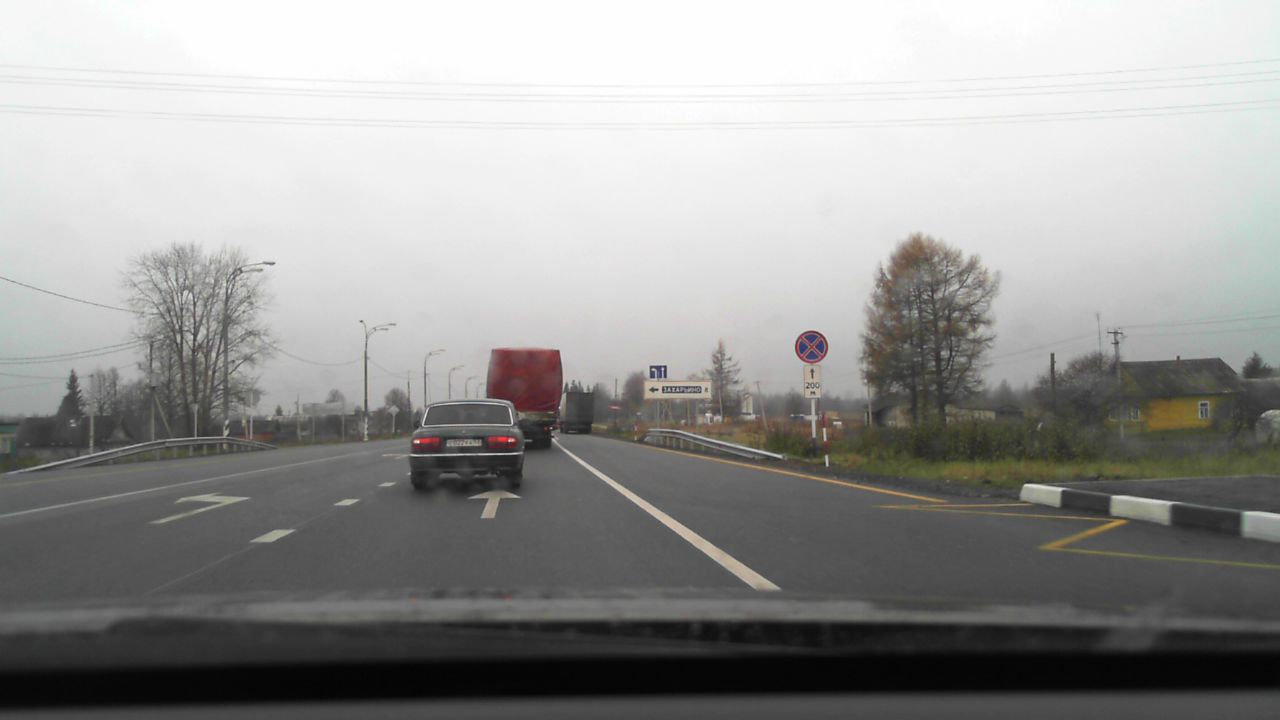No Parking: (794, 330, 828, 363)
